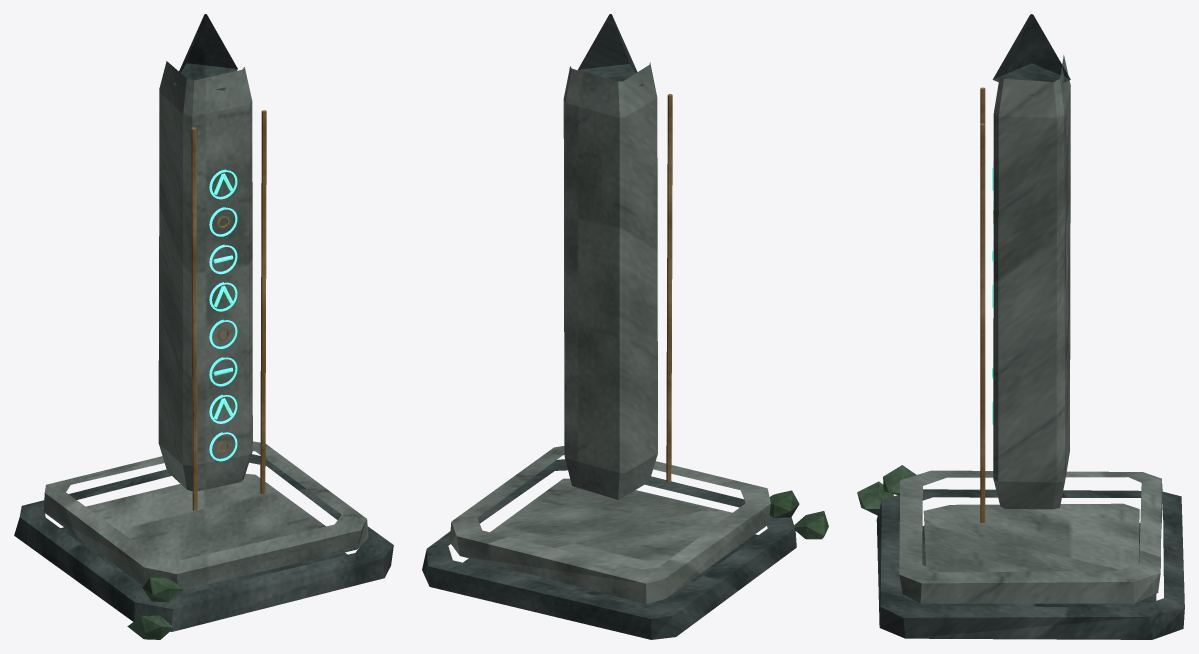
Rendered from 0487_obelisk_12.glb.
The picture shows the model from 3 angles, left to right: view 1: azimuth 30°, elevation 25°; view 2: azimuth 150°, elevation 25°; view 3: azimuth 270°, elevation 25°; orthographic projection. The views are drawn at different scales.
Parts seen in each view (by area): view 1: stone, stone_dark, brass, glow, moss; view 2: stone, stone_dark, brass, moss; view 3: stone, stone_dark, brass, moss.
Part boxes in pixels (x1=…): stone: x1=43, y1=61, x2=368, y2=589; stone_dark: x1=14, y1=14, x2=393, y2=631; brass: x1=191, y1=110, x2=266, y2=510; glow: x1=209, y1=169, x2=237, y2=461; moss: x1=127, y1=576, x2=183, y2=639; stone: x1=449, y1=62, x2=770, y2=604; stone_dark: x1=422, y1=14, x2=796, y2=639; brass: x1=666, y1=94, x2=672, y2=482; moss: x1=769, y1=490, x2=828, y2=539; stone: x1=899, y1=55, x2=1162, y2=603; stone_dark: x1=876, y1=14, x2=1184, y2=639; brass: x1=980, y1=87, x2=993, y2=522; moss: x1=857, y1=465, x2=916, y2=515.
Bounding box in the file's own units: 2.01 × 3.8 × 2.01.
Materials: 5 (5 with a texture image).
